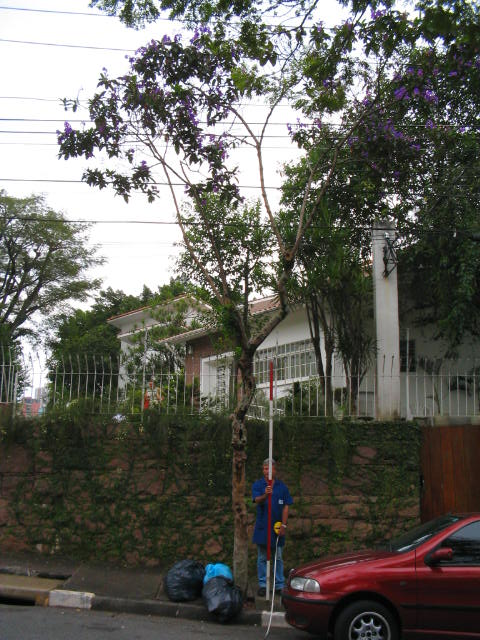crown: (57, 8, 468, 232)
stem: (223, 352, 259, 599)
stick: (260, 361, 276, 602)
tree: (54, 8, 469, 601)
